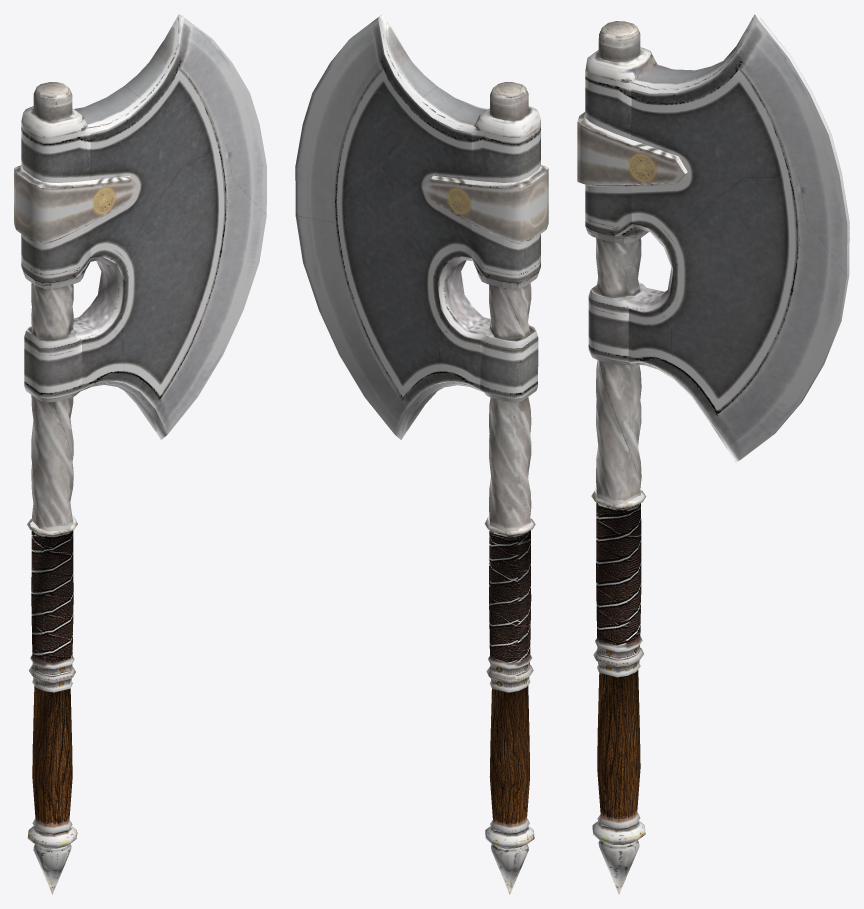
Rendered from w_battleaxe_t2.glb.
3 renders of one model, left to right at view 1: azimuth 30°, elevation 25°; view 2: azimuth 150°, elevation 25°; view 3: azimuth 330°, elevation 25°, orthographic. The views are drawn at different scales.
Visible parts, largest first — view 1: BattleAxe:0; view 2: BattleAxe:0; view 3: BattleAxe:0.
Part boxes in pixels (left/top/right/bottom): BattleAxe:0: left=14, top=14, right=266, bottom=894; BattleAxe:0: left=295, top=14, right=548, bottom=894; BattleAxe:0: left=577, top=14, right=849, bottom=894.
Size of the model in its own units: 18.12 by 60.84 by 4.22.
Materials: 1 (1 with a texture image).
